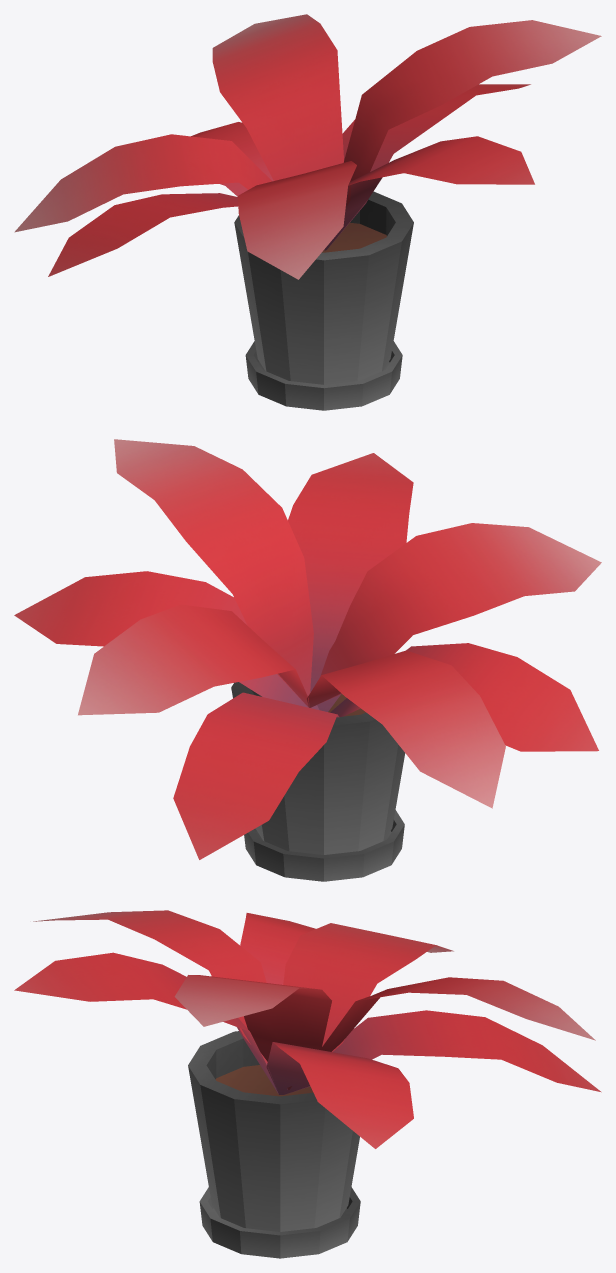
The model's file is plant_leafPlant.fbx.
3 renders of one model, top to bottom at view 1: azimuth 30°, elevation 25°; view 2: azimuth 150°, elevation 25°; view 3: azimuth 270°, elevation 25°, orthographic. The views are drawn at different scales.
Visible parts, largest first — view 1: leaves1, pot, leaves2, plate; view 2: leaves1, leaves2, pot, plate; view 3: leaves2, leaves1, pot, plate.
Part boxes in pixels (left/top/right/bottom): leaves1: left=14, top=14, right=601, bottom=279; pot: left=234, top=191, right=413, bottom=384; leaves2: left=48, top=84, right=534, bottom=276; plate: left=245, top=341, right=402, bottom=410; leaves1: left=78, top=439, right=601, bottom=808; leaves2: left=14, top=453, right=598, bottom=859; pot: left=231, top=682, right=405, bottom=854; plate: left=244, top=810, right=404, bottom=881; leaves2: left=14, top=913, right=601, bottom=1148; leaves1: left=33, top=910, right=595, bottom=1089; pot: left=188, top=1031, right=359, bottom=1231; plate: left=199, top=1187, right=360, bottom=1258.
Size of the model in its own units: 56.76 by 32.15 by 53.6.
